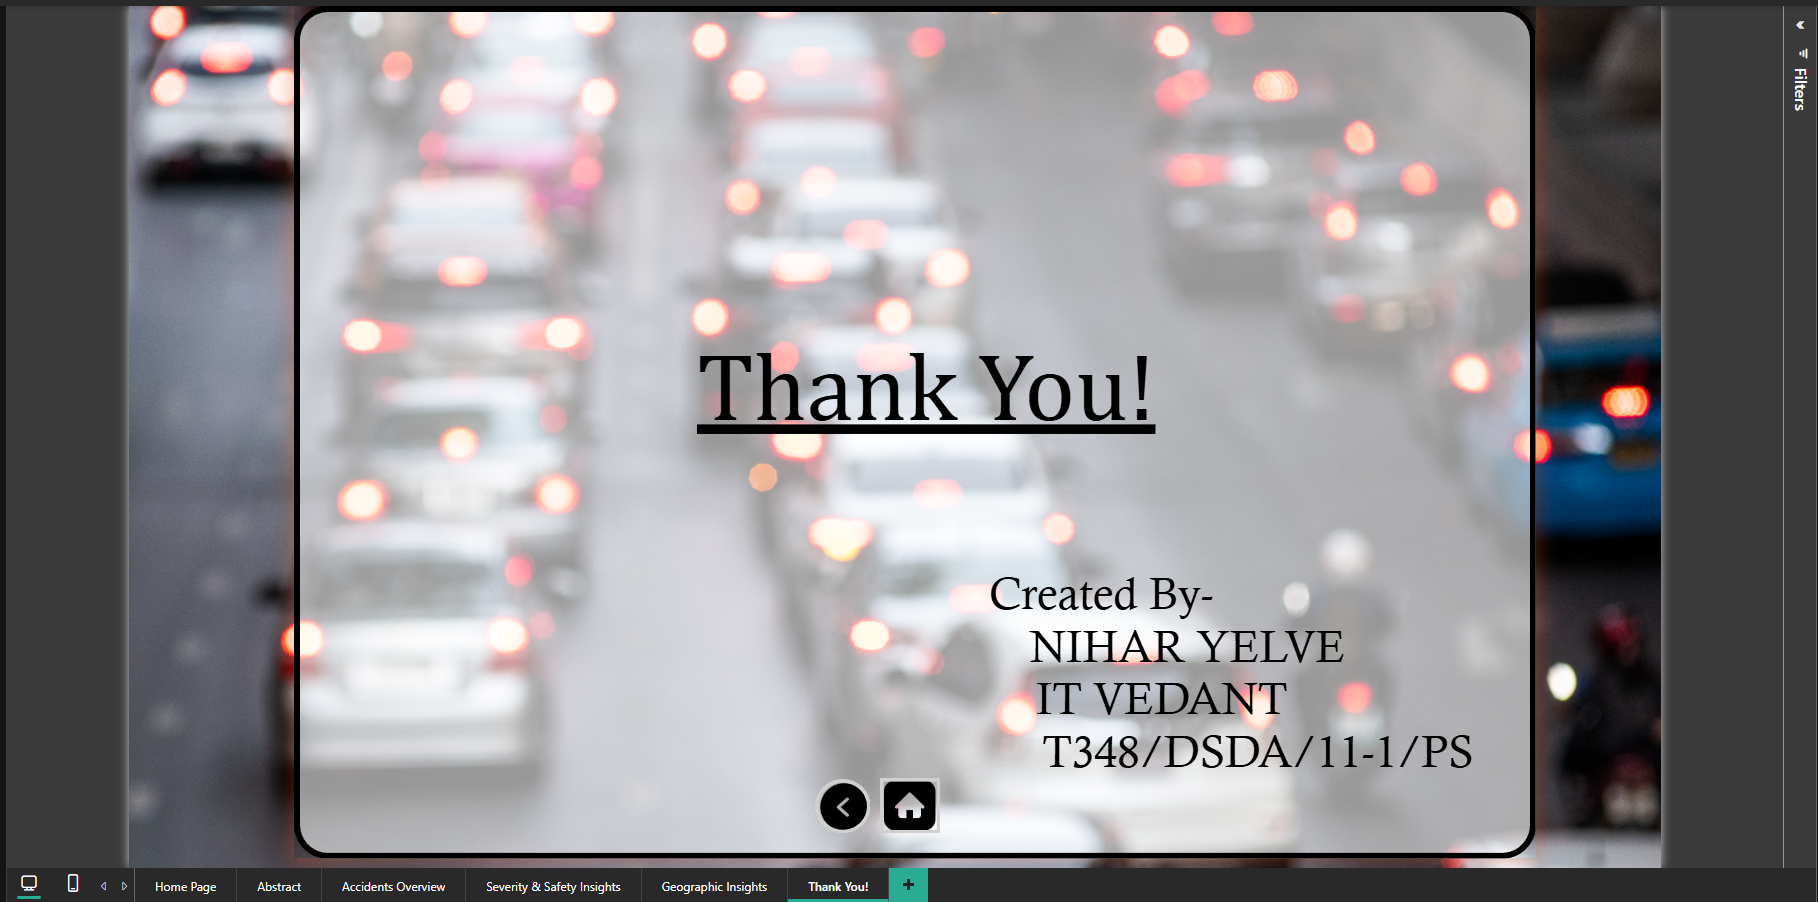

What the dashboard file says about the page in this screenshot:
{"tool":"tableau","page":{"name":"Thank You","canvas":[1000,1000],"units":"permille","ordinal":4},"visuals":[{"type":"image","param":"Image/representation-ecology-sustainability.jpg","box":[4.2,9.1,991.6,945.3]},{"type":"dashboard-object","box":[18.4,34.2,100.7,58.1]},{"type":"text","box":[141.2,86.7,720.1,821]},{"type":"text","box":[287.9,96.9,405.2,382]},{"type":"blank","box":[4.2,954.4,991.6,36.5]}]}

Visuals, with their boxes on the dashboard's canvas, which has no fixed pixel size, in thousandths of its width and height (x1, y1, x2, y2). These are canvas units, not pixel positions in the 1818x902 screenshot, which may show the page scaled, cropped or inside an application window:
image: 4/9/996/954
dashboard-object: 18/34/119/92
text: 141/87/861/908
text: 288/97/693/479
blank: 4/954/996/991
